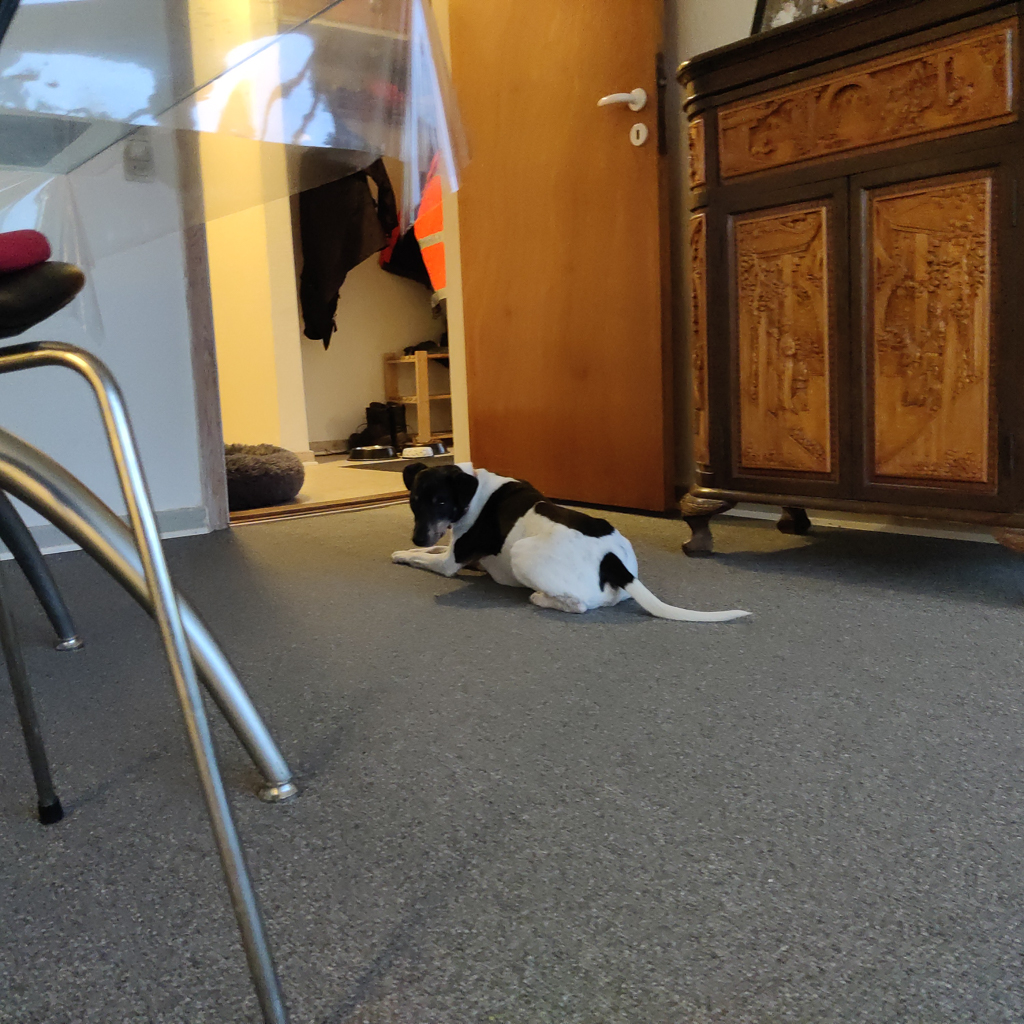Dog: (377, 447, 764, 640)
